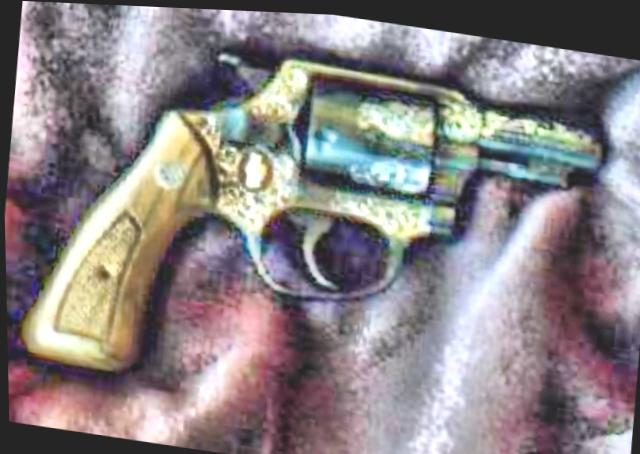pistol: (7, 15, 611, 432)
